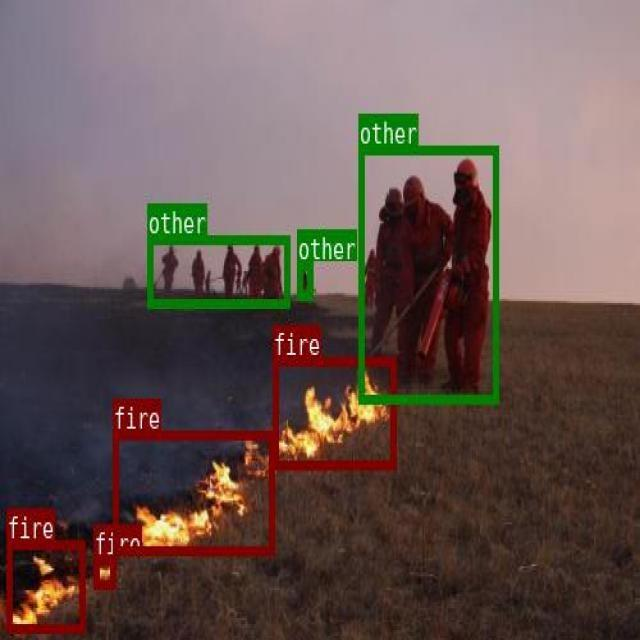fire: (112, 430, 274, 554), (273, 356, 395, 467), (5, 540, 84, 630), (93, 555, 115, 588)
